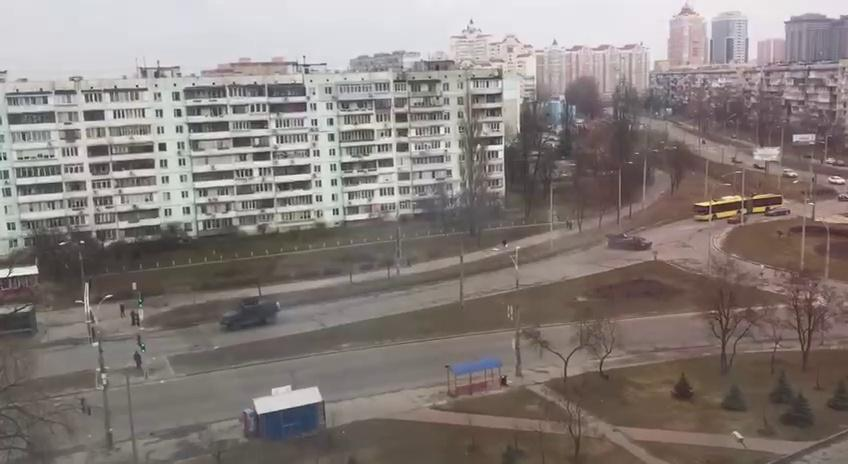armored_car: (220, 298, 281, 330)
car: (765, 207, 791, 217), (828, 176, 846, 185), (782, 168, 798, 178)
person: (133, 350, 142, 370), (118, 302, 125, 319)
tank: (605, 228, 655, 254)
